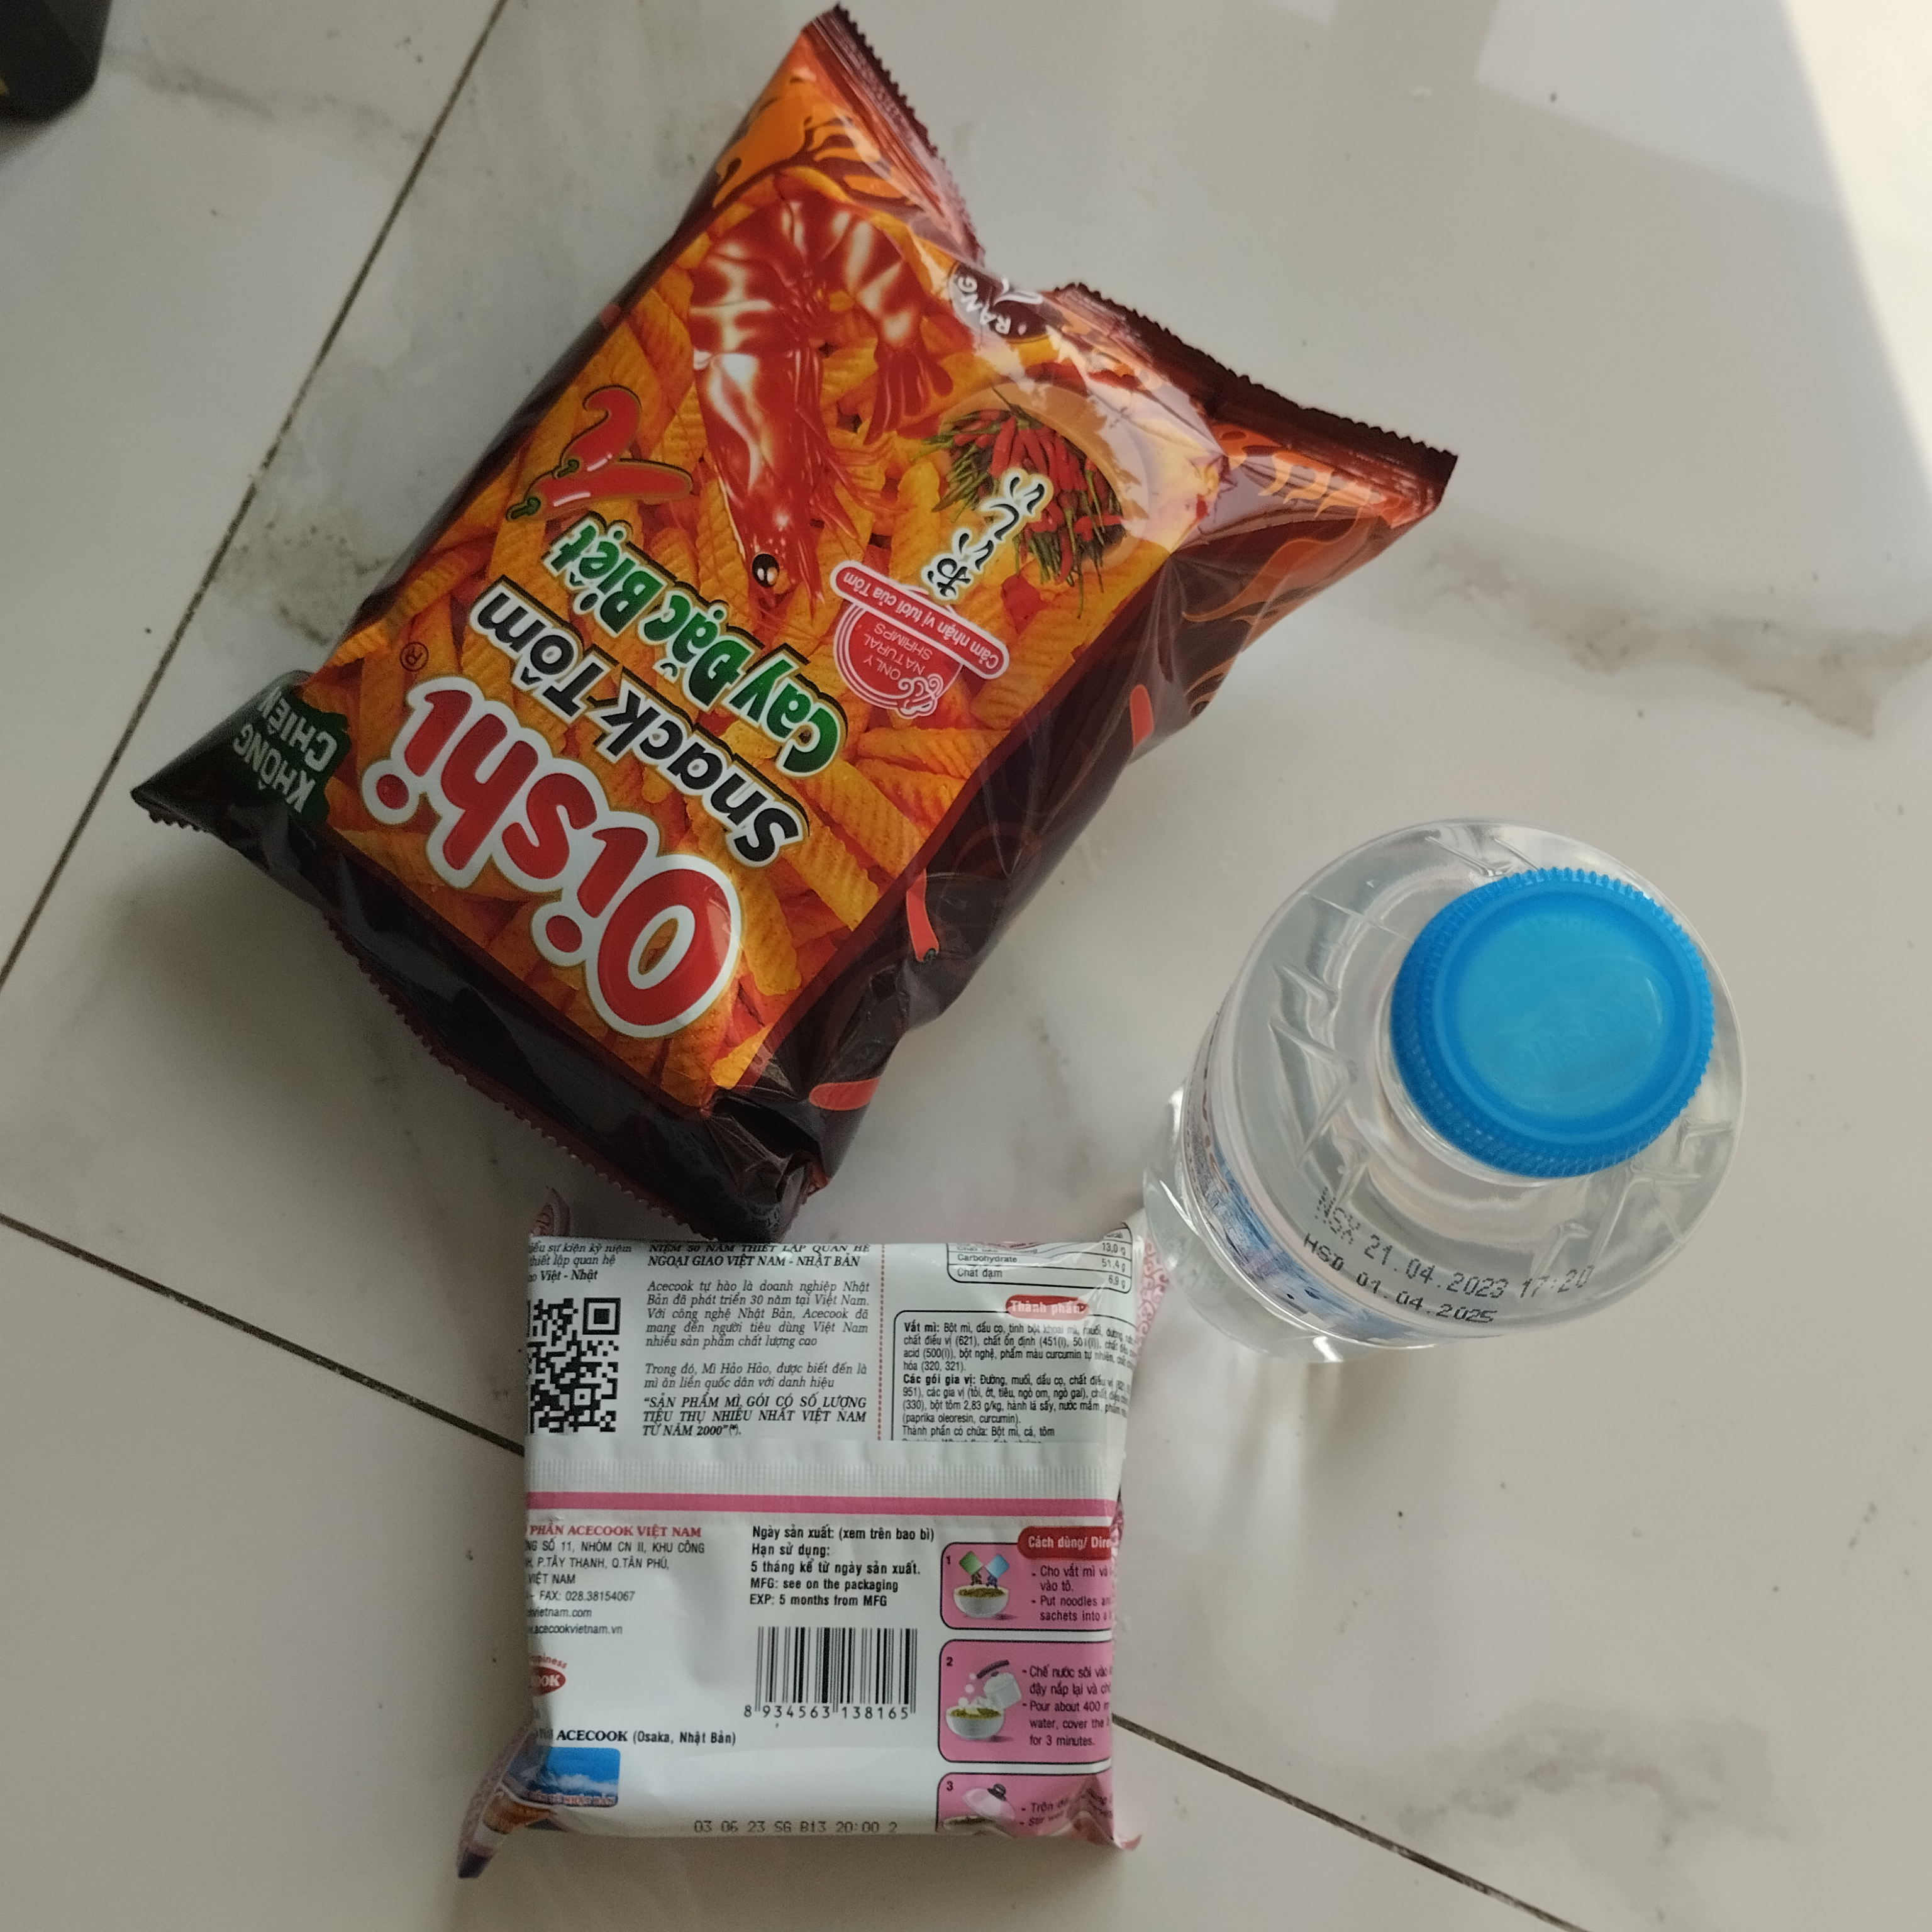Haohao: (469, 1200, 1182, 1900)
Lavie: (1164, 823, 1757, 1355)
Oishi_Cay: (122, 12, 1454, 1265)
